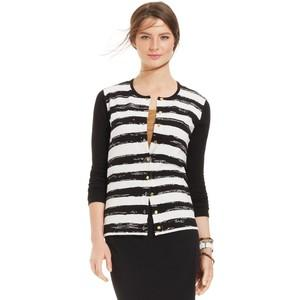C_cardigan sweater: (85, 78, 216, 244)
